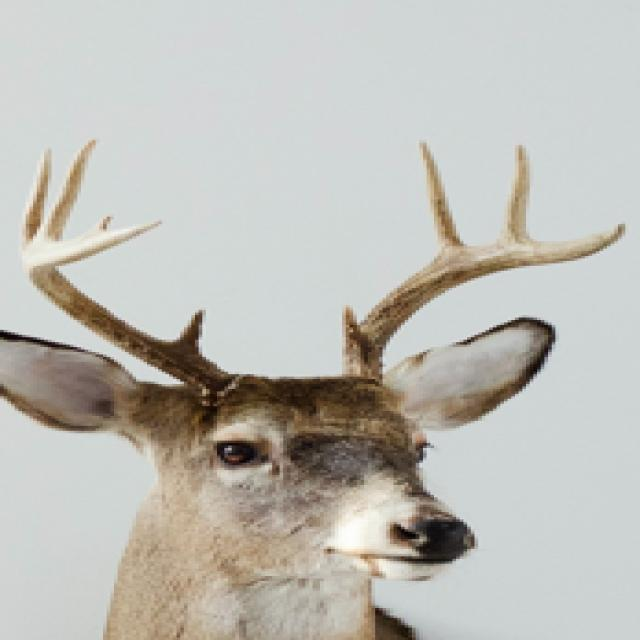L-F: (343, 221, 628, 386)
L-G1: (341, 307, 363, 348)
L-G2: (418, 141, 471, 255)
L-G3: (500, 145, 533, 242)
R-F: (22, 215, 245, 407)
R-G1: (174, 309, 205, 356)
